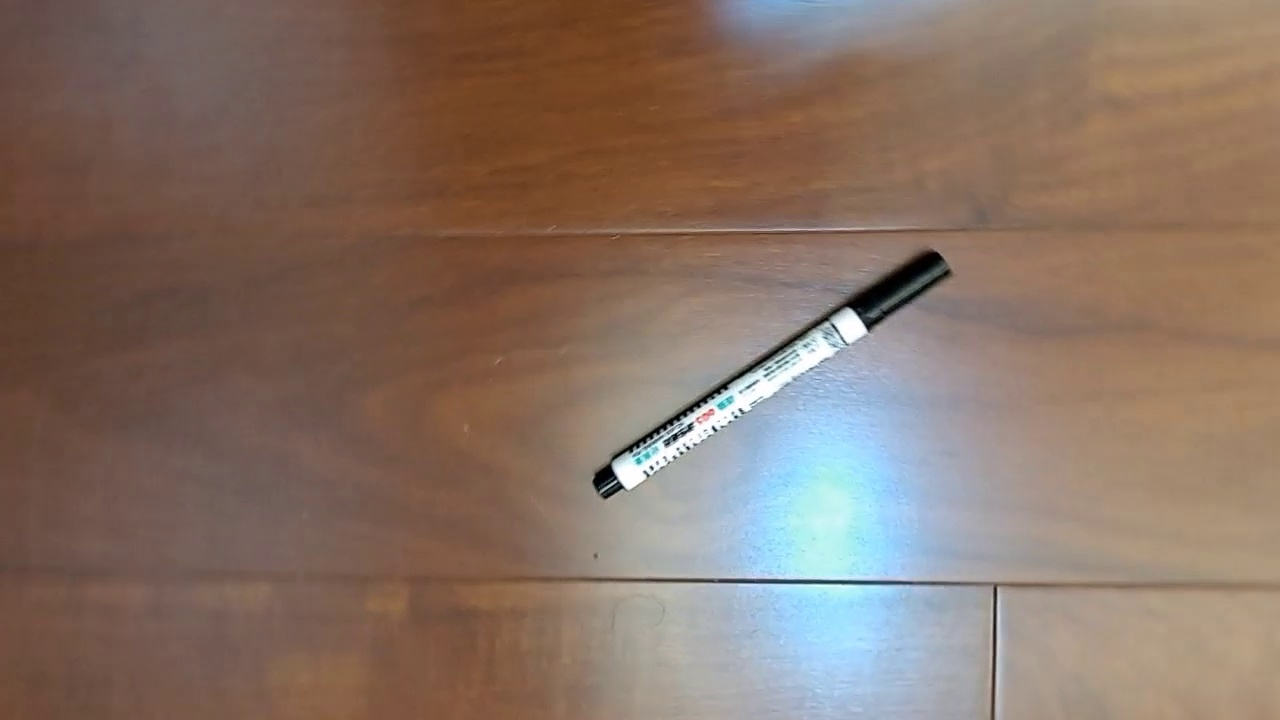pen: (592, 246, 956, 501)
